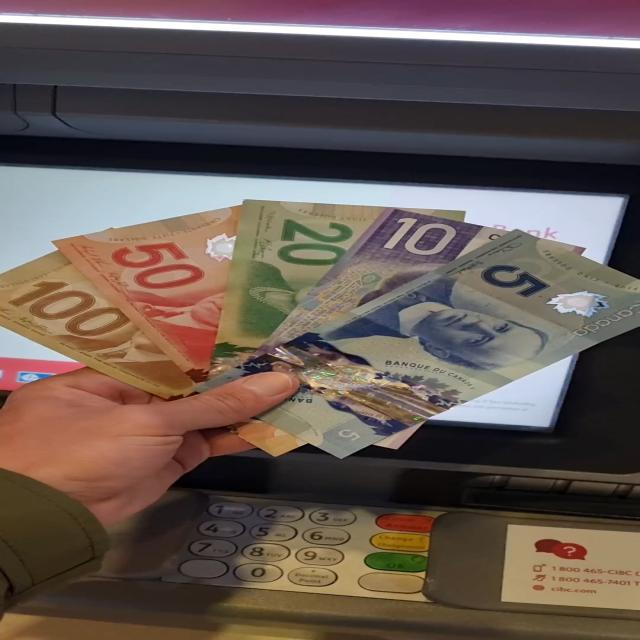10 cad: (253, 210, 505, 358)
100 cad: (0, 250, 198, 403)
20 cad: (214, 200, 390, 376)
5 cad: (262, 230, 640, 435)
50 cad: (54, 205, 239, 383)
